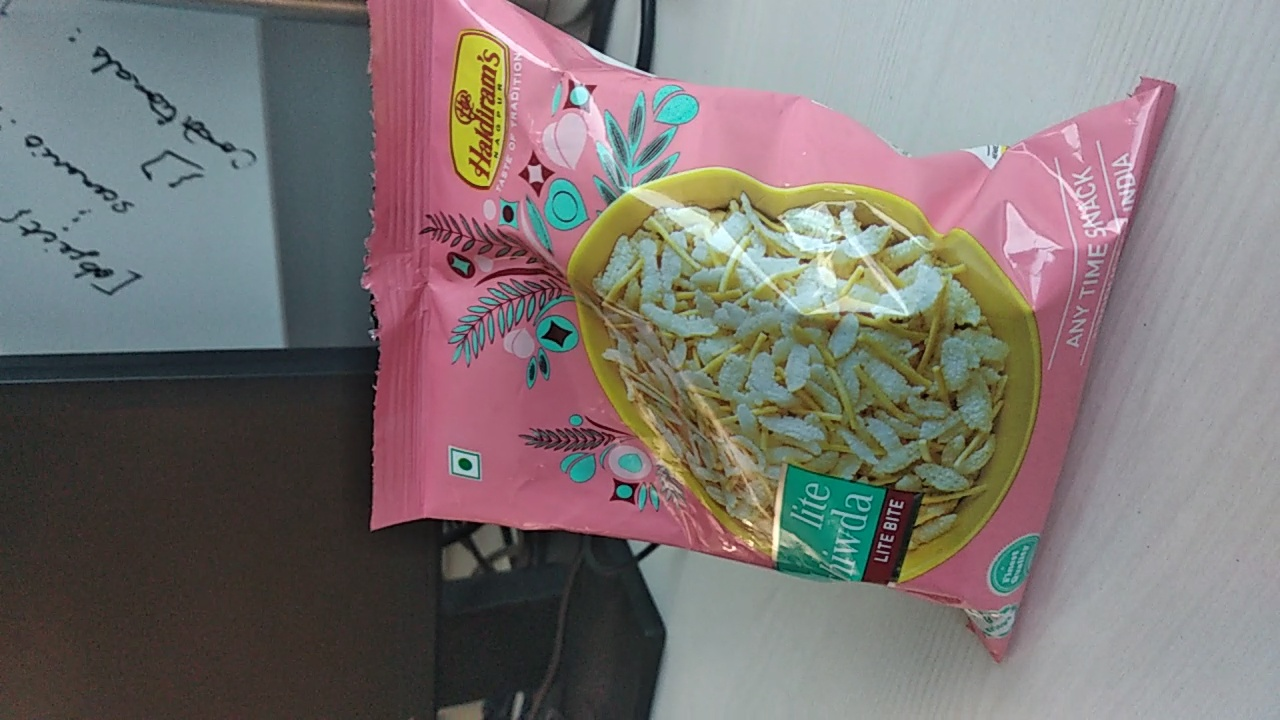liteSnack: (334, 9, 1182, 677)
